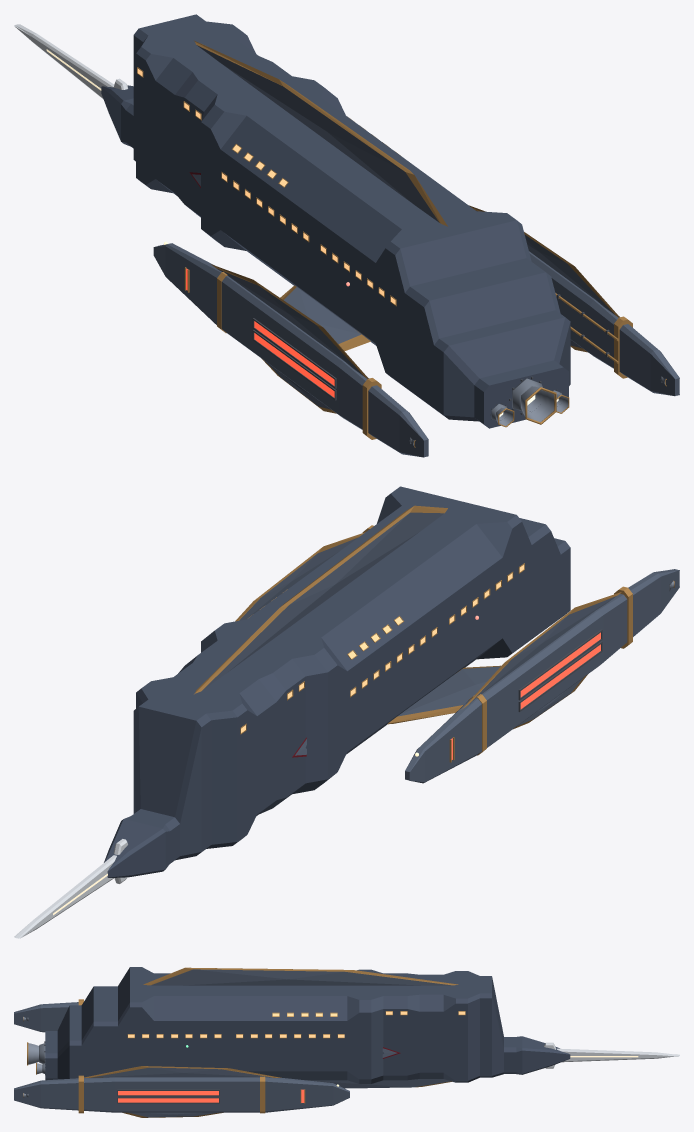
File: frigate.glb
3 renders of one model, top to bottom at view 1: azimuth 30°, elevation 25°; view 2: azimuth 150°, elevation 25°; view 3: azimuth 270°, elevation 25°, orthographic. The views are drawn at different scales.
Parts seen in each view (by area): view 1: hull_hull, nacelle_port_hull, nacelle_starboard_hull, hull_weapons_blade_steel, hull_drive_bell, nacelle_port_glow_grille, nacelle_port_metal_14171d, nacelle_port_metal_7b4013, hull_metal_7b4013, nacelle_starboard_metal_7b4013, hull_window; view 2: hull_hull, nacelle_port_hull, hull_weapons_blade_steel, nacelle_starboard_hull, nacelle_port_glow_grille, nacelle_port_metal_14171d, nacelle_port_metal_7b4013, hull_metal_7b4013, hull_window; view 3: hull_hull, nacelle_starboard_hull, nacelle_port_hull, hull_weapons_blade_steel, nacelle_starboard_glow_grille, nacelle_starboard_metal_14171d, hull_window, hull_metal_7b4013, nacelle_starboard_metal_7b4013, hull_drive_bell.
Part boxes in pixels (bbox=[...]): hull_hull: bbox=[101, 14, 570, 428]; nacelle_port_hull: bbox=[153, 243, 428, 457]; nacelle_starboard_hull: bbox=[469, 205, 679, 396]; hull_weapons_blade_steel: bbox=[14, 24, 127, 99]; hull_drive_bell: bbox=[496, 386, 568, 425]; nacelle_port_glow_grille: bbox=[186, 268, 334, 397]; nacelle_port_metal_14171d: bbox=[252, 318, 410, 444]; nacelle_port_metal_7b4013: bbox=[184, 267, 415, 447]; hull_metal_7b4013: bbox=[137, 67, 400, 306]; nacelle_starboard_metal_7b4013: bbox=[555, 293, 666, 386]; hull_window: bbox=[137, 68, 395, 304]; hull_hull: bbox=[104, 486, 570, 877]; nacelle_port_hull: bbox=[387, 569, 679, 783]; hull_weapons_blade_steel: bbox=[14, 839, 127, 938]; nacelle_starboard_hull: bbox=[235, 532, 365, 621]; nacelle_port_glow_grille: bbox=[451, 632, 600, 759]; nacelle_port_metal_14171d: bbox=[518, 584, 670, 711]; nacelle_port_metal_7b4013: bbox=[449, 580, 674, 762]; hull_metal_7b4013: bbox=[240, 563, 524, 734]; hull_window: bbox=[241, 564, 524, 732]; hull_hull: bbox=[45, 967, 570, 1088]; nacelle_starboard_hull: bbox=[14, 1066, 349, 1117]; nacelle_port_hull: bbox=[14, 1002, 78, 1032]; hull_weapons_blade_steel: bbox=[544, 1042, 679, 1068]; nacelle_starboard_glow_grille: bbox=[118, 1089, 304, 1102]; nacelle_starboard_metal_14171d: bbox=[28, 1089, 219, 1103]; hull_window: bbox=[128, 1011, 465, 1037]; hull_metal_7b4013: bbox=[127, 1011, 465, 1038]; nacelle_starboard_metal_7b4013: bbox=[23, 1075, 305, 1113]; hull_drive_bell: bbox=[28, 1043, 42, 1074].
Bounding box in the file's own units: 31.8 × 22.6 × 110.
